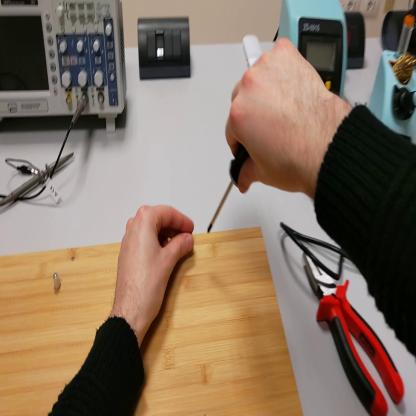hand: (227, 38, 328, 200), (113, 203, 195, 333)
oscilloscope: (2, 1, 130, 131)
oscilloscope probe tip: (2, 152, 75, 208)
screwdriver-: (208, 144, 252, 233)
socket: (382, 6, 415, 63), (345, 12, 366, 70)
welder base: (371, 12, 416, 141)
welder station: (281, 2, 344, 94)
working area: (1, 228, 301, 416)
